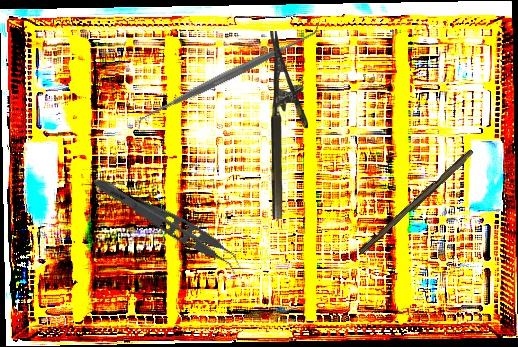Needle Holder: (270, 31, 308, 219)
Scalpel Handle: (357, 146, 477, 259)
Spatula Surgical: (129, 17, 330, 132)
Tissue Forceps: (85, 173, 249, 279)
